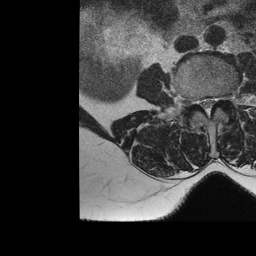CCS_normal: (204, 89, 211, 123)
LFS_stenosis: (219, 85, 227, 109)
LLS_stenosis: (211, 88, 219, 113)
RFS_stenosis: (190, 89, 197, 112)
RLS_normal: (197, 89, 204, 115)
